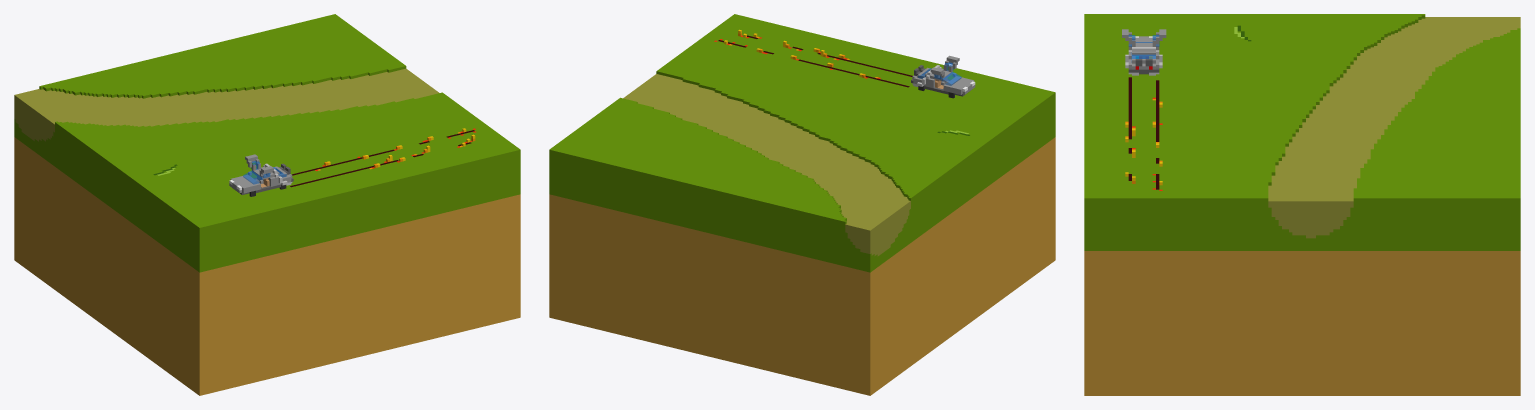
3 renders of one model, left to right at view 1: azimuth 30°, elevation 25°; view 2: azimuth 150°, elevation 25°; view 3: azimuth 270°, elevation 25°, orthographic. The views are drawn at different scales.
Parts seen in each view (by area): view 1: 7H; view 2: 7H; view 3: 7H.
Boxes of the visible parts, bbox=[...] form: 7H: bbox=[14, 14, 520, 395]; 7H: bbox=[549, 14, 1055, 395]; 7H: bbox=[1084, 14, 1520, 395].
Size of the model in its own units: 12.8 by 7.4 by 12.8.
5 materials, 1 textured.
